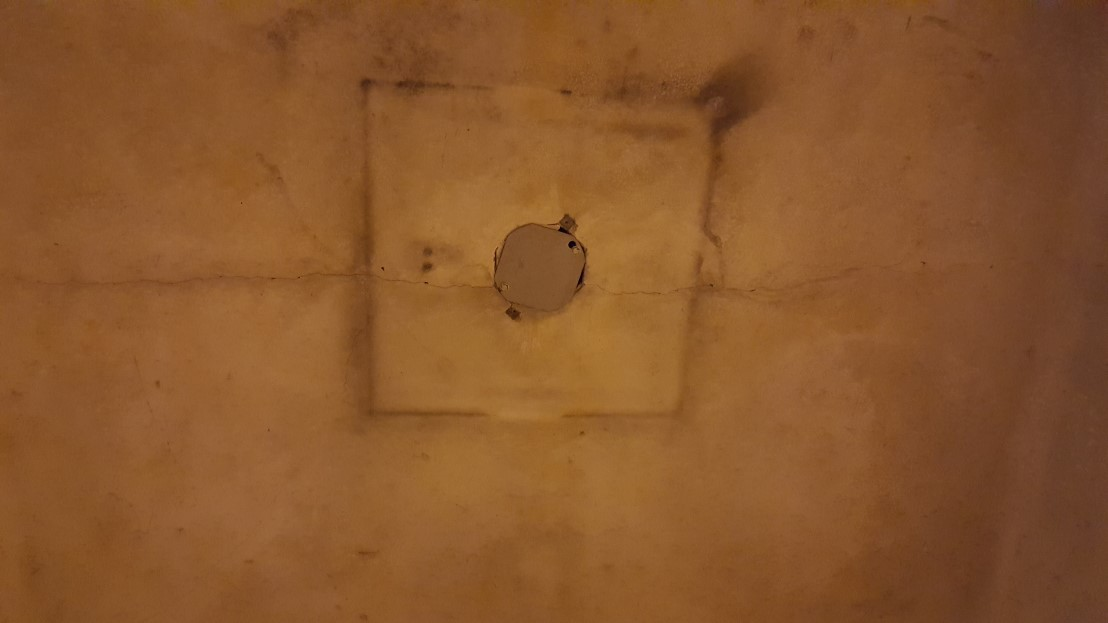Crack: (562, 241, 1108, 300), (0, 265, 528, 303)
